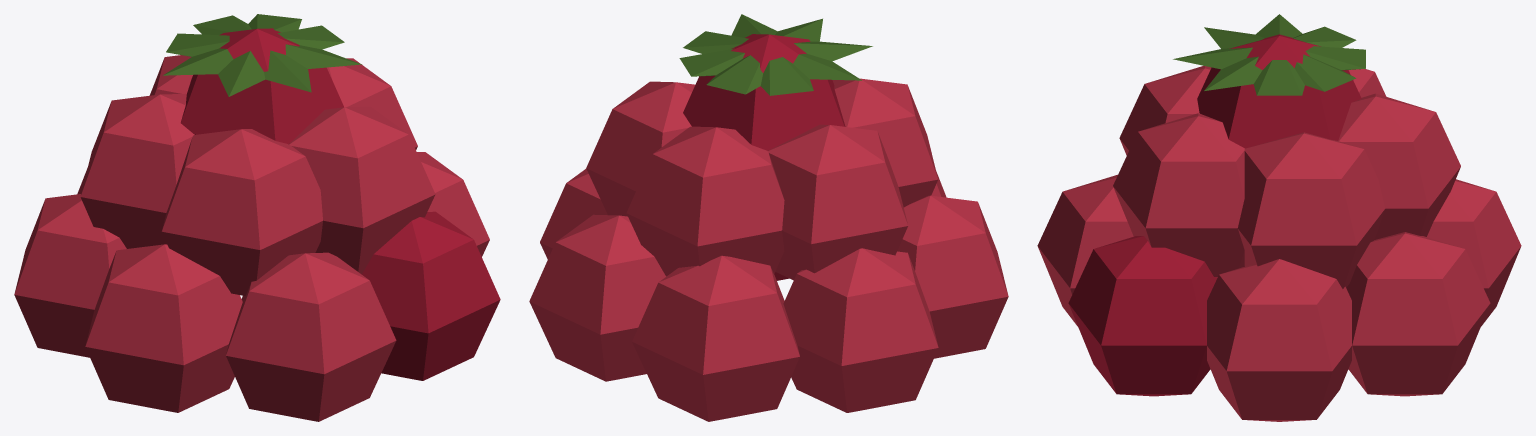
File: food-berry.glb
3 renders of one model, left to right at view 1: azimuth 30°, elevation 25°; view 2: azimuth 150°, elevation 25°; view 3: azimuth 270°, elevation 25°, orthographic. The views are drawn at different scales.
Bounding box in the file's own units: 2.19 × 1.64 × 2.26.
